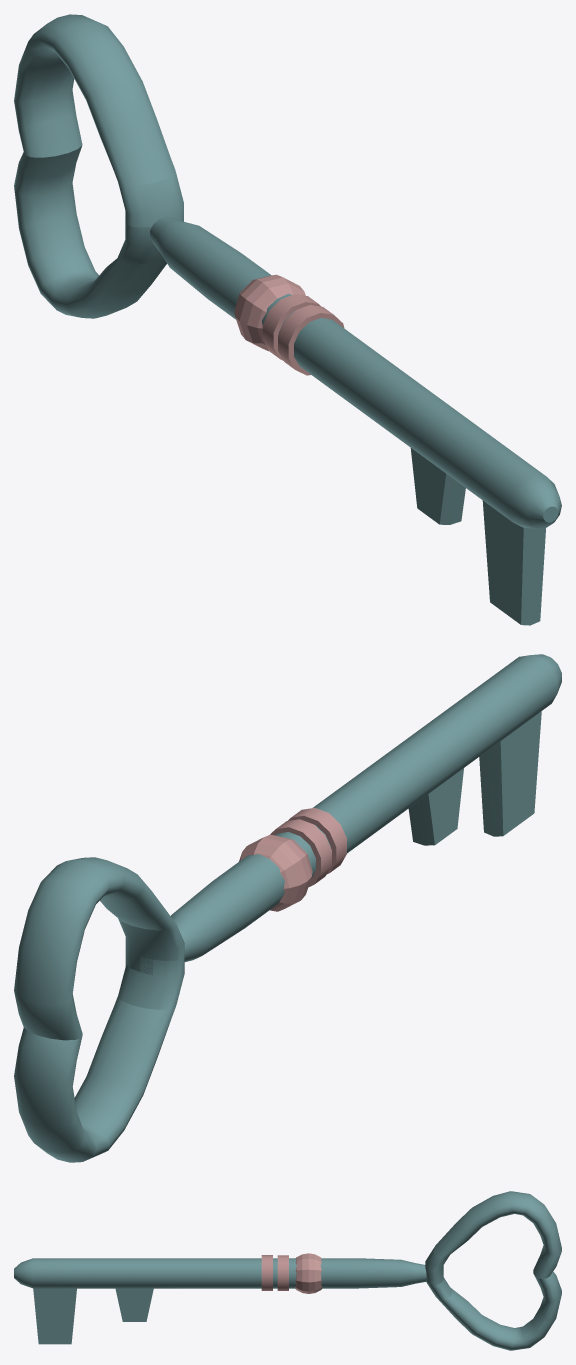
File: Key_mod.fbx
3 renders of one model, top to bottom at view 1: azimuth 30°, elevation 25°; view 2: azimuth 150°, elevation 25°; view 3: azimuth 270°, elevation 25°, orthographic. The views are drawn at different scales.
Parts seen in each view (by area): view 1: Key; view 2: Key; view 3: Key.
Part boxes in pixels (x1,y1,x2,y2): Key: (14,14,561,625); Key: (14,654,561,1162); Key: (14,1191,561,1350).
Bounding box in the file's own units: 5.9 × 24.44 × 78.84.
